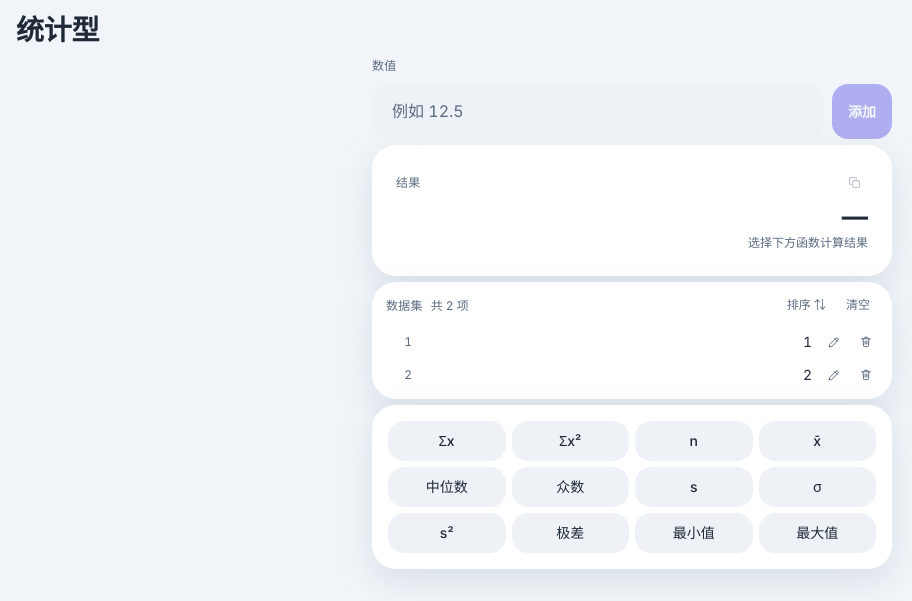
Test: StatisticsPage › loads a row into the input and updates it in place
Click the button named "编辑第 2 个数值". click: (834, 375)
box: x1=820 y1=361 x2=848 y2=389
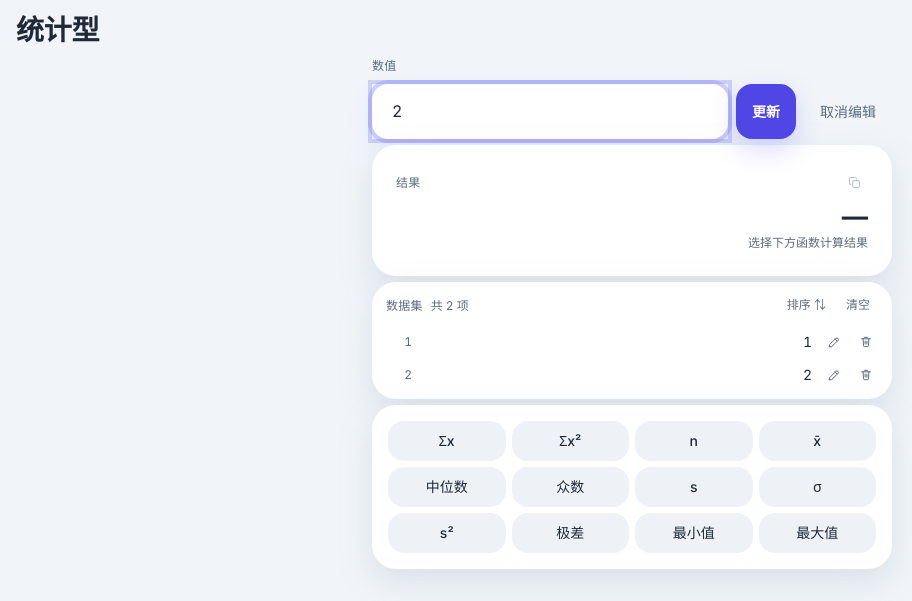
Expected: the field labelled "数值" holds "2"
Expected: the button "更新" is shown, x1=736 y1=84 x2=796 y2=139
Replace the text in the field labelled "数值" with "20". click: (550, 111)
box: x1=372 y1=84 x2=728 y2=139
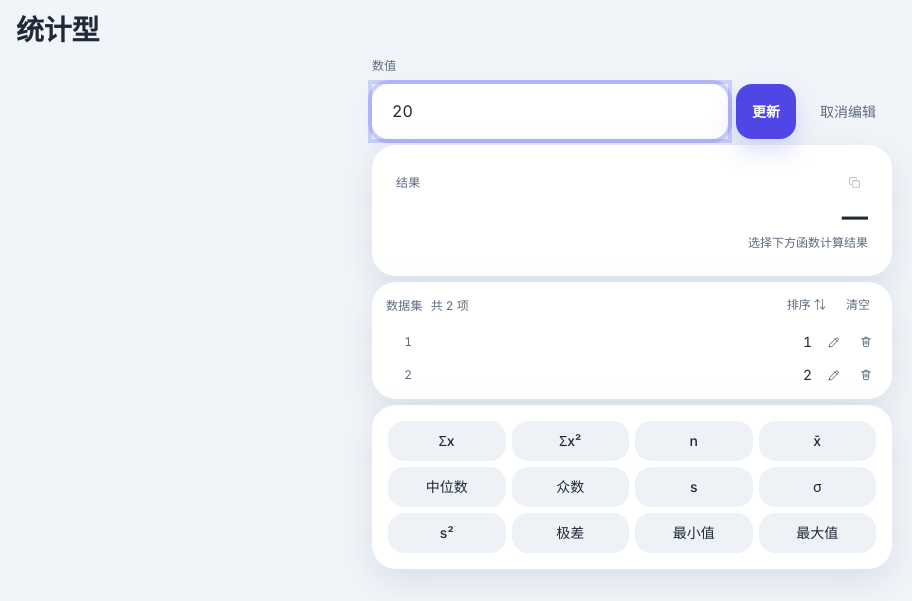
Click the button "更新". click: (766, 111)
box: x1=736 y1=84 x2=796 y2=139
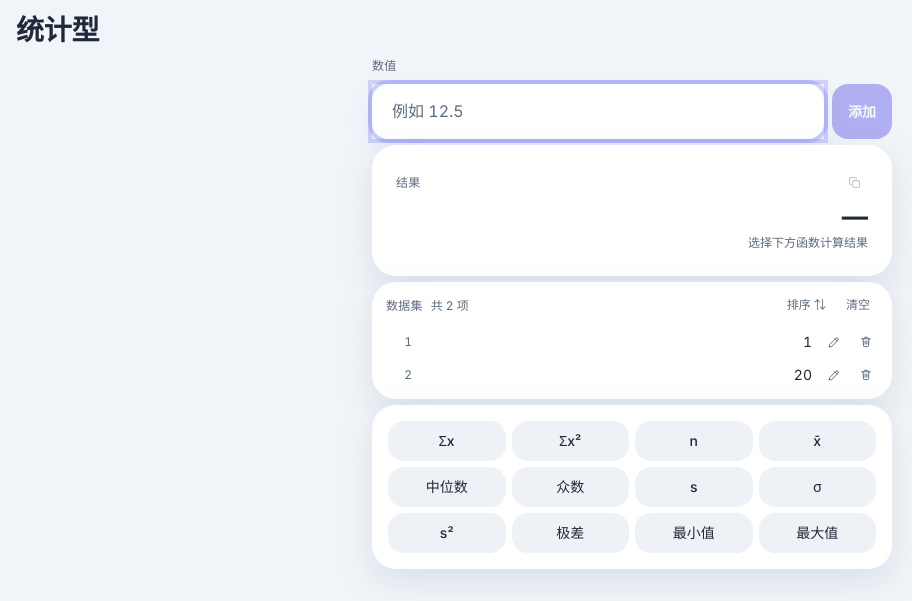
Expected: the field labelled "数值" is empty, x1=372 y1=84 x2=824 y2=139
Expected: the button "更新" is gone
